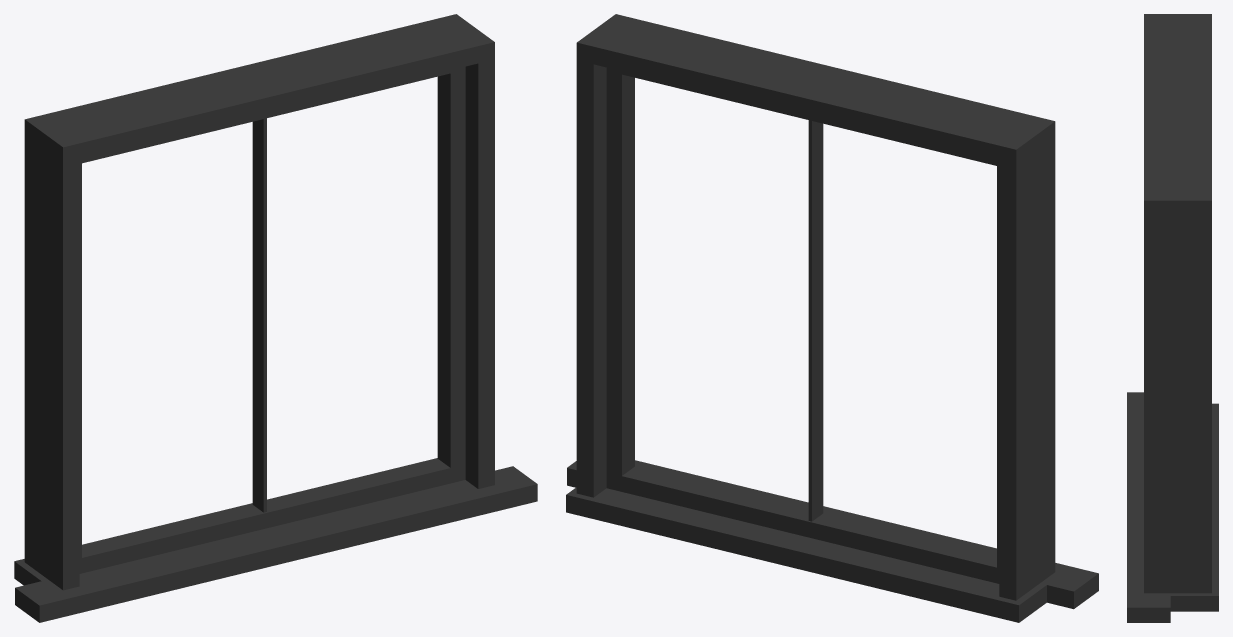
Rendered from Window6_02.fbx.
3 renders of one model, left to right at view 1: azimuth 30°, elevation 25°; view 2: azimuth 150°, elevation 25°; view 3: azimuth 270°, elevation 25°, orthographic. The views are drawn at different scales.
Visible parts, largest first — view 1: Window6_02; view 2: Window6_02; view 3: Window6_02.
Boxes of the visible parts, left/top/right/bottom form: Window6_02: left=14, top=14, right=537, bottom=622; Window6_02: left=566, top=14, right=1098, bottom=622; Window6_02: left=1127, top=14, right=1218, bottom=622.
Size of the model in its own units: 1.5 by 1.32 by 0.27.
